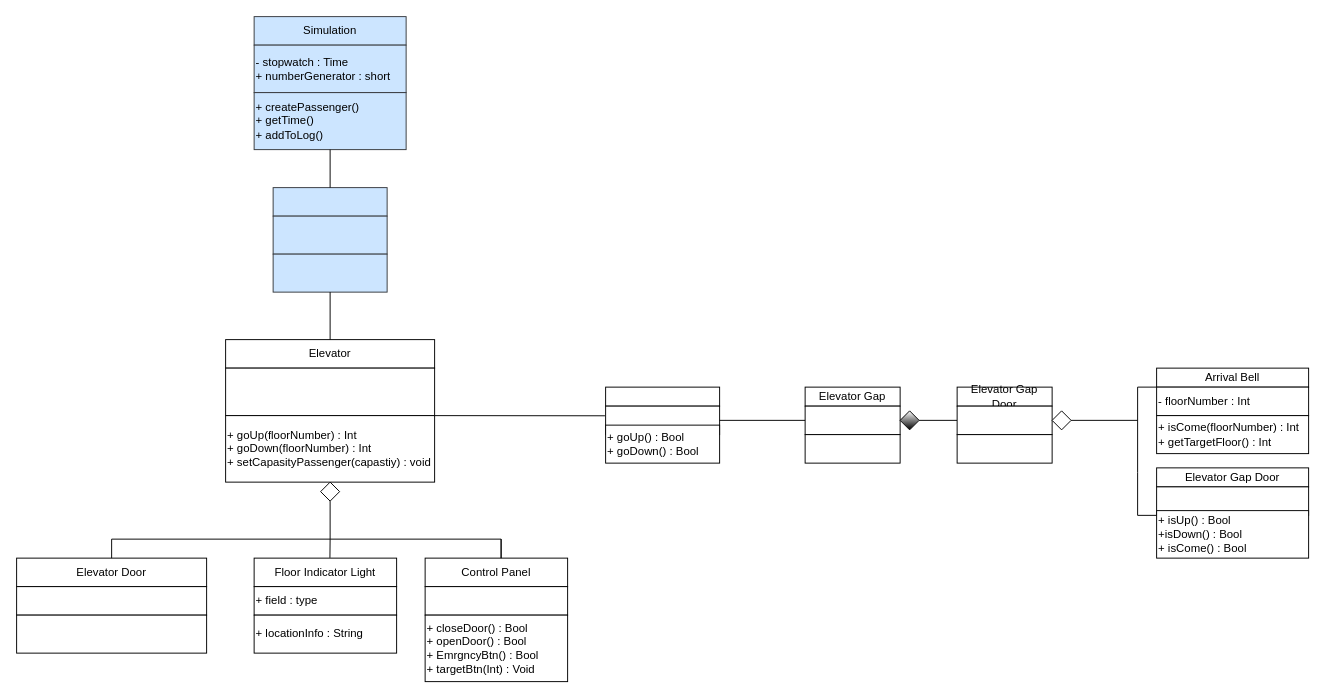
This 1325x698 diagram has some shape labels left out. Each missing label, with the centre of its shape:
+ openDoorTime(doorTime) : bool + closeDoorTime(doorTime) bool: point 111,633
- name : String - capasity : Int: point 330,391
Elevator Call Button: point 662,396
Passenger: point 329,201
